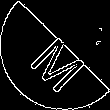M_NE: (21, 21, 89, 89)
